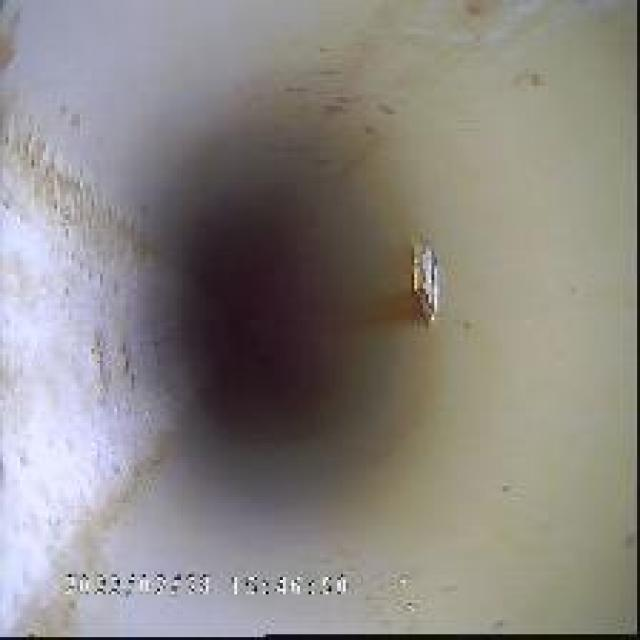ferrule: (391, 225, 446, 328)
